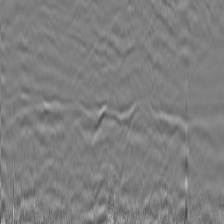cavities: (54, 113, 224, 223)
